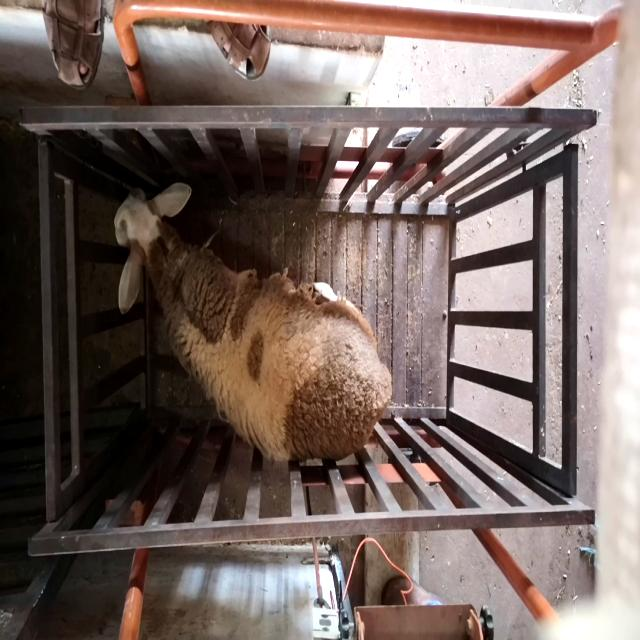sheep: (114, 183, 393, 462)
